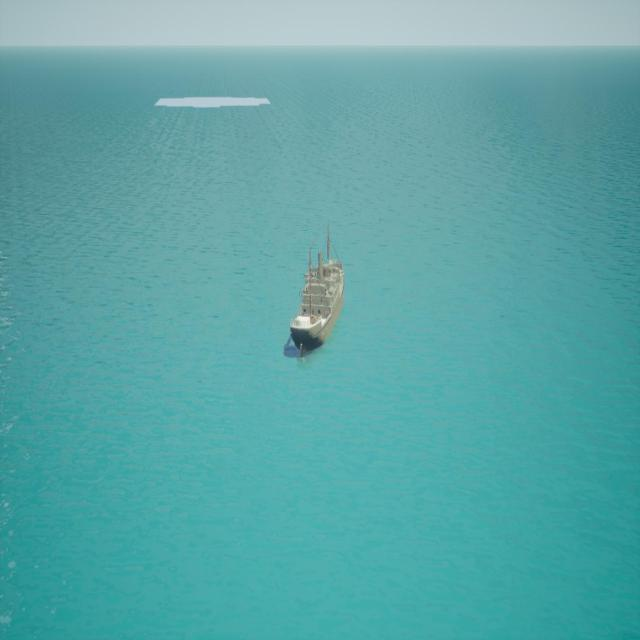fishing ship: (290, 219, 347, 354)
